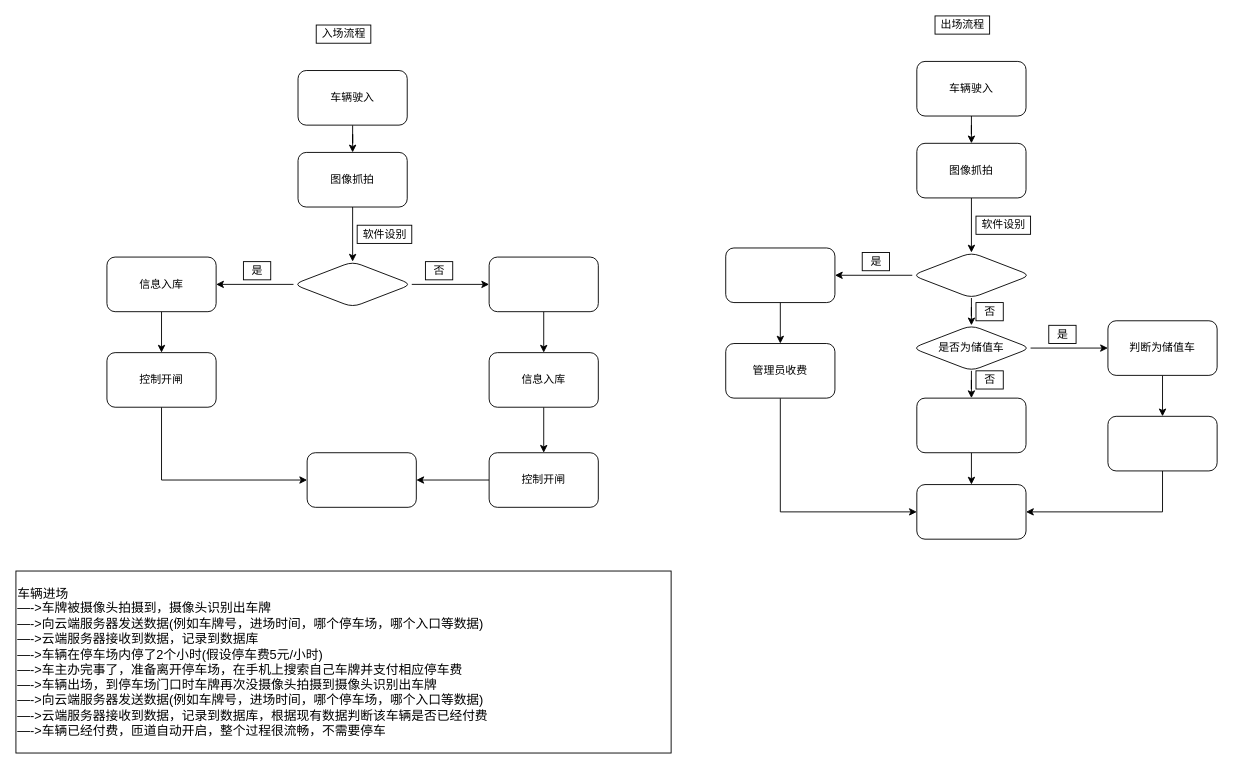
Some shapes in this 1233 by 769 pixel diagram are drawn without their labels. The shapes that lost their labels are listed below. From the top down, each one's centre as x and y in pixels, then its label:
(x=352, y=284): 是否为固定停车
(x=543, y=284): 判断是否为临时车
(x=780, y=275): 自动计算与播报应缴金额
(x=971, y=275): 是否为临时车
(x=971, y=425): 判断为月租车/免费车
(x=1162, y=443): 自动扣费饼播报剩余金额
(x=361, y=479): 车辆入场
(x=971, y=511): 车辆出场
